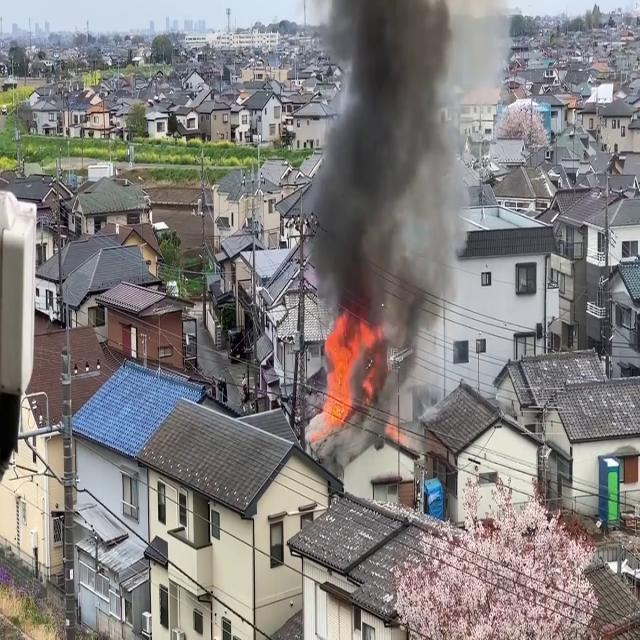Fire: (310, 313, 373, 437)
Smoke: (299, 0, 482, 399)
